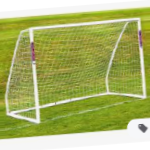goals: (3, 17, 150, 125)
